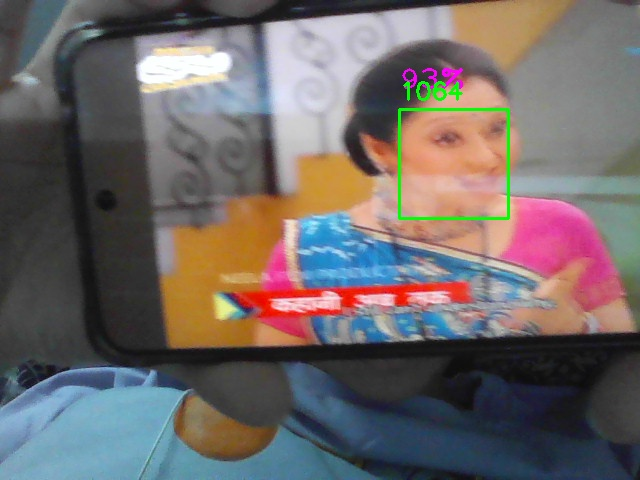fake: (399, 109, 509, 219)
